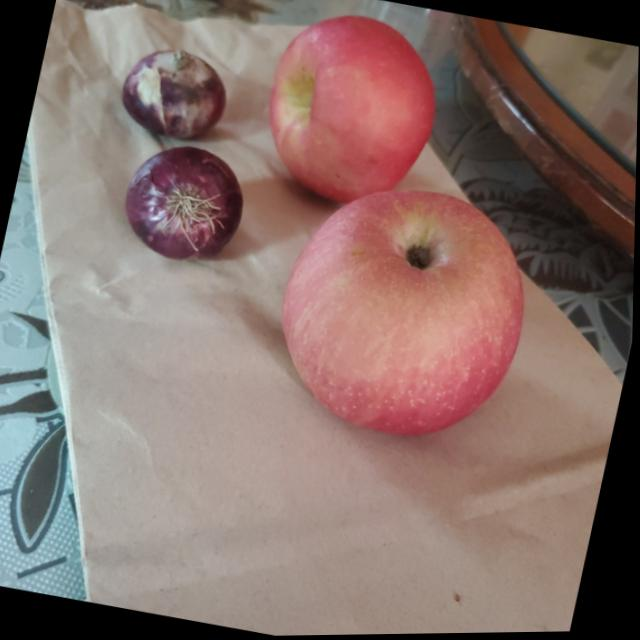apple: (263, 165, 550, 452), (253, 5, 455, 221)
onion: (119, 137, 256, 269), (115, 37, 238, 153)
